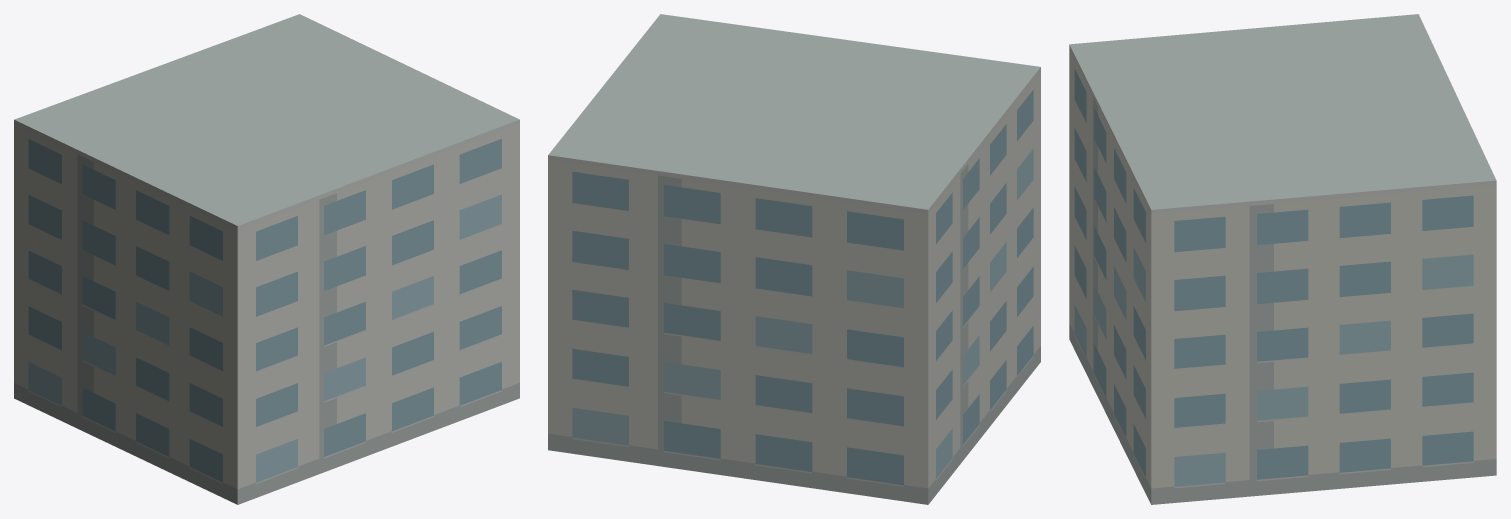
The model's file is survey-upis-32569789.glb.
3 renders of one model, left to right at view 1: azimuth 30°, elevation 25°; view 2: azimuth 150°, elevation 25°; view 3: azimuth 270°, elevation 25°, orthographic. The views are drawn at different scales.
Visible parts, largest first — view 1: survey-upis-32569789.tmp; view 2: survey-upis-32569789.tmp; view 3: survey-upis-32569789.tmp.
Boxes of the visible parts, x1,y1,x2,y2 form: survey-upis-32569789.tmp: (14, 14, 519, 504); survey-upis-32569789.tmp: (548, 14, 1040, 504); survey-upis-32569789.tmp: (1069, 14, 1496, 504).
Size of the model in its own units: 22.23 by 15.6 by 20.48.
